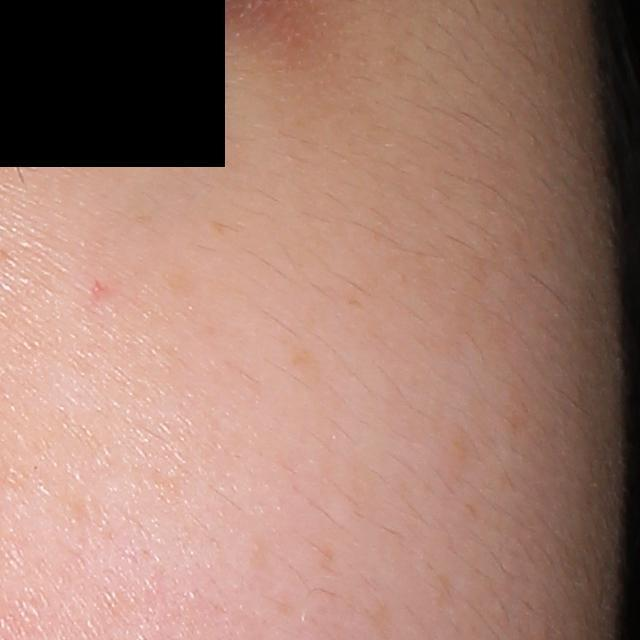melasma: (157, 265, 203, 301), (288, 341, 327, 381)
